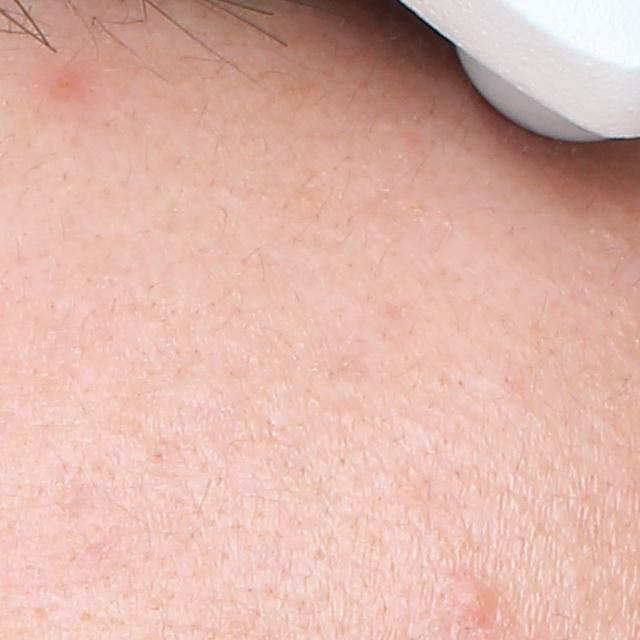papule: (451, 578, 500, 632), (51, 72, 87, 108)
